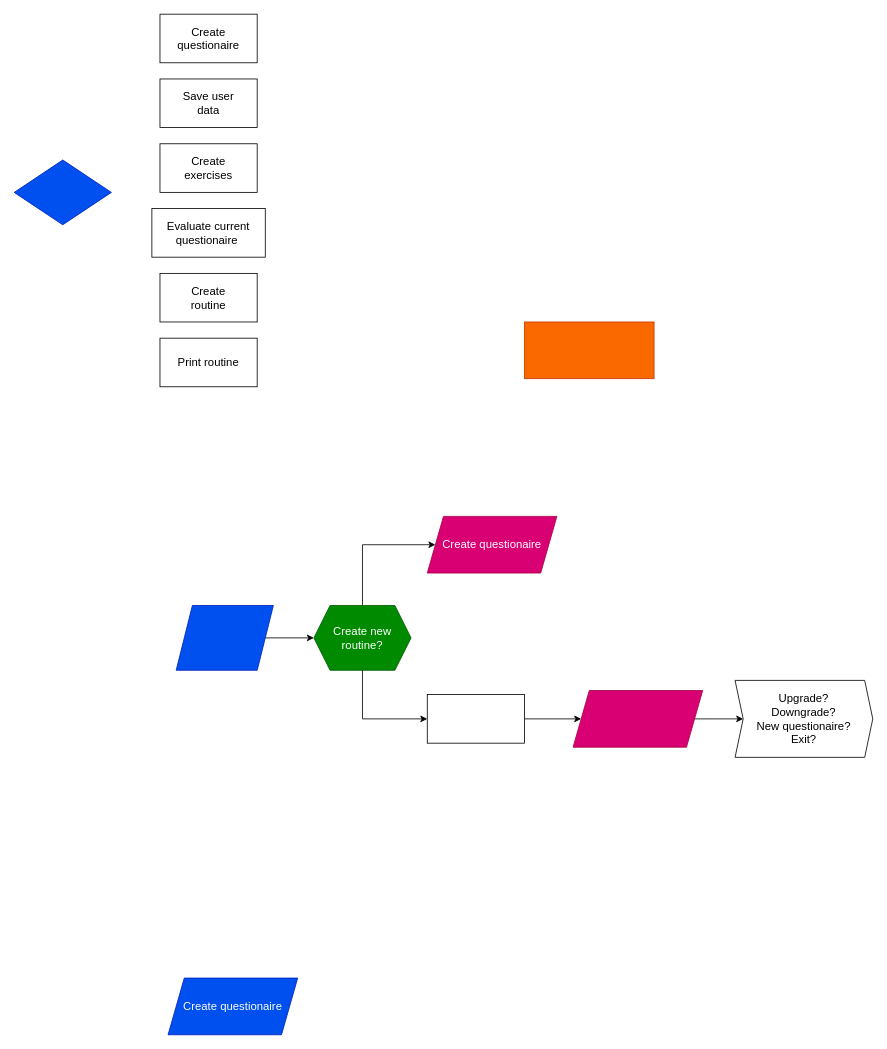
Some shapes in this 887 by 1049 pixel diagram are drawn without their labels. The box of each missing label's shape, as (x1, y1, x2, y2) in pixels:
Evaluate current routine: (572, 690, 703, 747)
Features: (13, 159, 111, 225)
Print current routine: (426, 694, 524, 743)
Program start: (175, 605, 273, 670)
THIS FLOWCHART IS NOT FINISHED YET: (524, 321, 654, 379)
